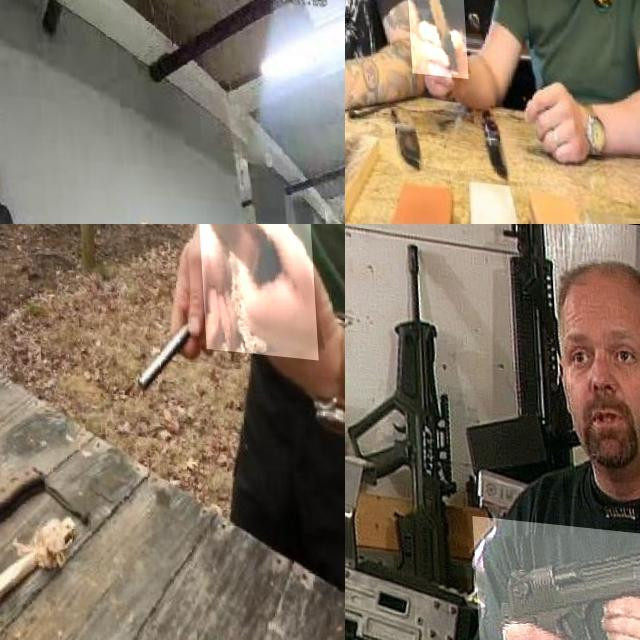-: (194, 224, 315, 351), (402, 0, 463, 71)
gun-knife-thesis - v11 Yolov5 augmented: (468, 510, 640, 640)
